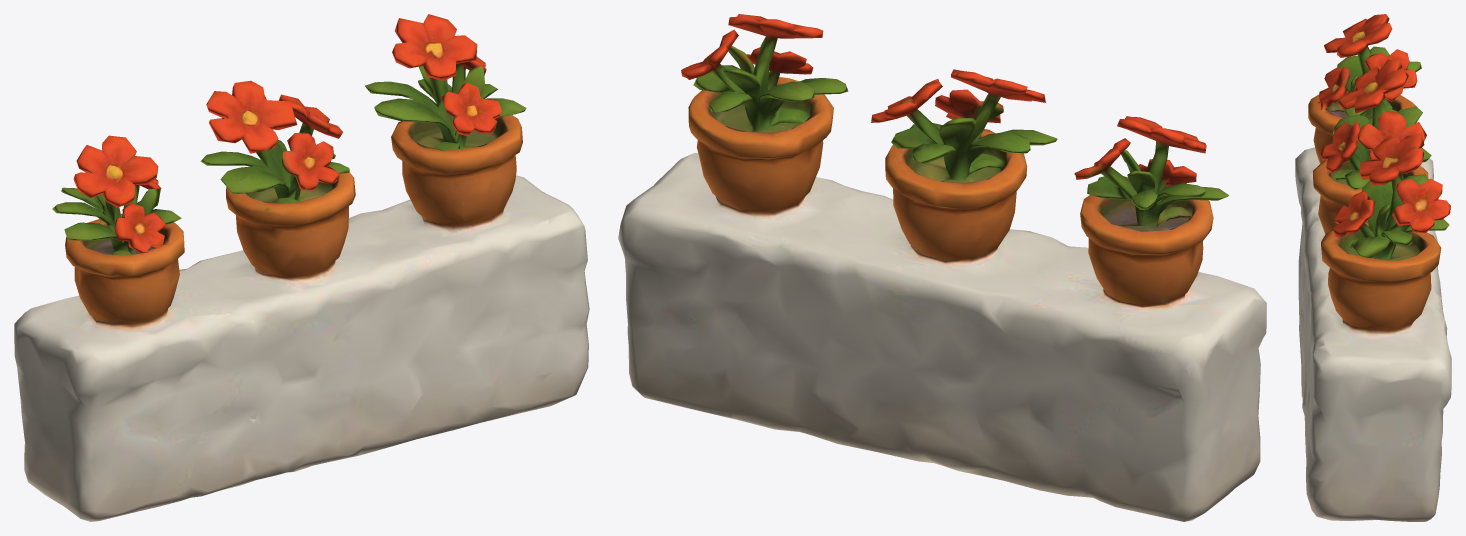
File: whitewall.glb
3 views of the same model, side by side, from view 1: azimuth 30°, elevation 25°; view 2: azimuth 150°, elevation 25°; view 3: azimuth 270°, elevation 25° (orthographic). The views are drawn at different scales.
Parts seen in each view (by area): view 1: tripo_node_35e029e9-1019-4f49-a76e-b1280f1aa798; view 2: tripo_node_35e029e9-1019-4f49-a76e-b1280f1aa798; view 3: tripo_node_35e029e9-1019-4f49-a76e-b1280f1aa798.
Boxes of the visible parts, bbox=[...] form: tripo_node_35e029e9-1019-4f49-a76e-b1280f1aa798: bbox=[14, 14, 589, 521]; tripo_node_35e029e9-1019-4f49-a76e-b1280f1aa798: bbox=[618, 14, 1266, 521]; tripo_node_35e029e9-1019-4f49-a76e-b1280f1aa798: bbox=[1295, 14, 1451, 521].
Size of the model in its own units: 1 by 0.6813 by 0.2846.
Materials: 1 (1 with a texture image).
